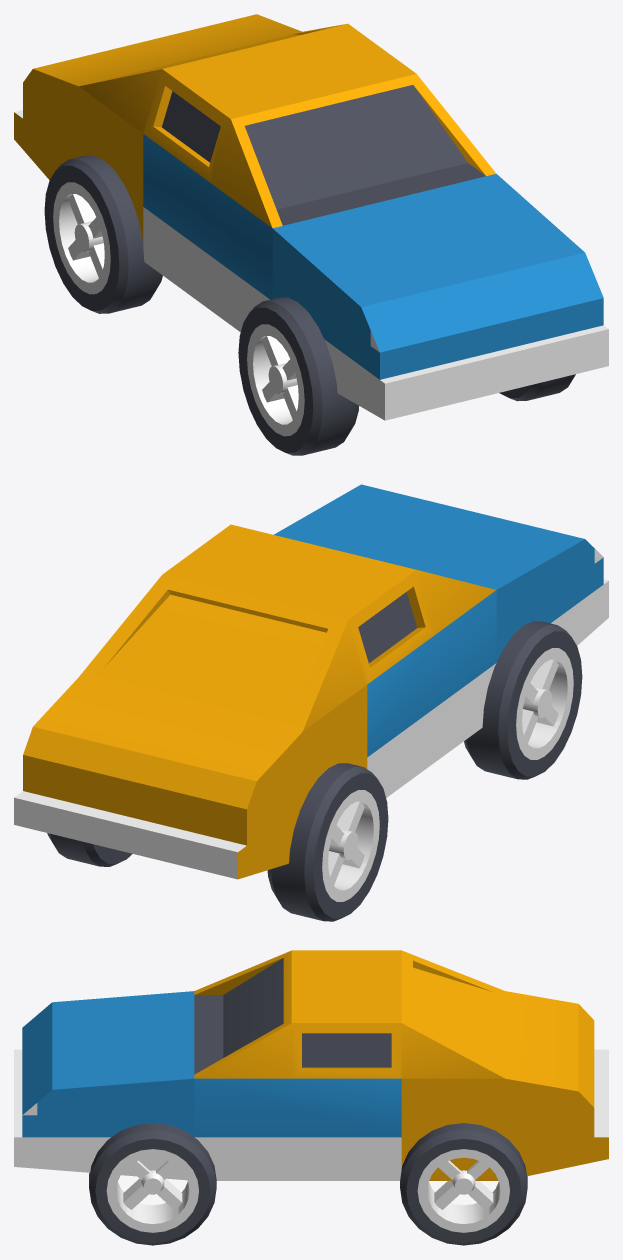
Rendered from car_1.fbx.
The picture shows the model from 3 angles, top to bottom: view 1: azimuth 30°, elevation 25°; view 2: azimuth 150°, elevation 25°; view 3: azimuth 270°, elevation 25°; orthographic projection. The views are drawn at different scales.
Visible parts, largest first — view 1: windshield_sports_399, hood_default_394, trunk_default_396, wheel_smallSports_392, wheel_smallSports_393, wheel_smallSports_391; view 2: trunk_default_396, windshield_sports_399, hood_default_394, wheel_smallSports_393, wheel_smallSports_392, wheel_smallSports_390; view 3: windshield_sports_399, trunk_default_396, hood_default_394, wheel_smallSports_391, wheel_smallSports_390.
Part boxes in pixels (<box>): windshield_sports_399: <box>143,24,495,331</box>; hood_default_394: <box>272,173,608,420</box>; trunk_default_396: <box>14,14,344,244</box>; wheel_smallSports_392: <box>238,297,358,455</box>; wheel_smallSports_393: <box>44,155,162,313</box>; wheel_smallSports_391: <box>499,374,575,401</box>; trunk_default_396: <box>14,574,367,879</box>; windshield_sports_399: <box>162,524,496,797</box>; hood_default_394: <box>274,484,608,662</box>; wheel_smallSports_393: <box>267,763,388,921</box>; wheel_smallSports_392: <box>464,621,582,779</box>; wheel_smallSports_390: <box>47,833,132,866</box>; windshield_sports_399: <box>194,950,401,1180</box>; trunk_default_396: <box>401,950,608,1180</box>; hood_default_394: <box>14,991,194,1180</box>; wheel_smallSports_391: <box>89,1123,216,1245</box>; wheel_smallSports_390: <box>400,1123,527,1245</box>.
Bounding box in the file's own units: 12.16 × 11.08 × 28.7.
